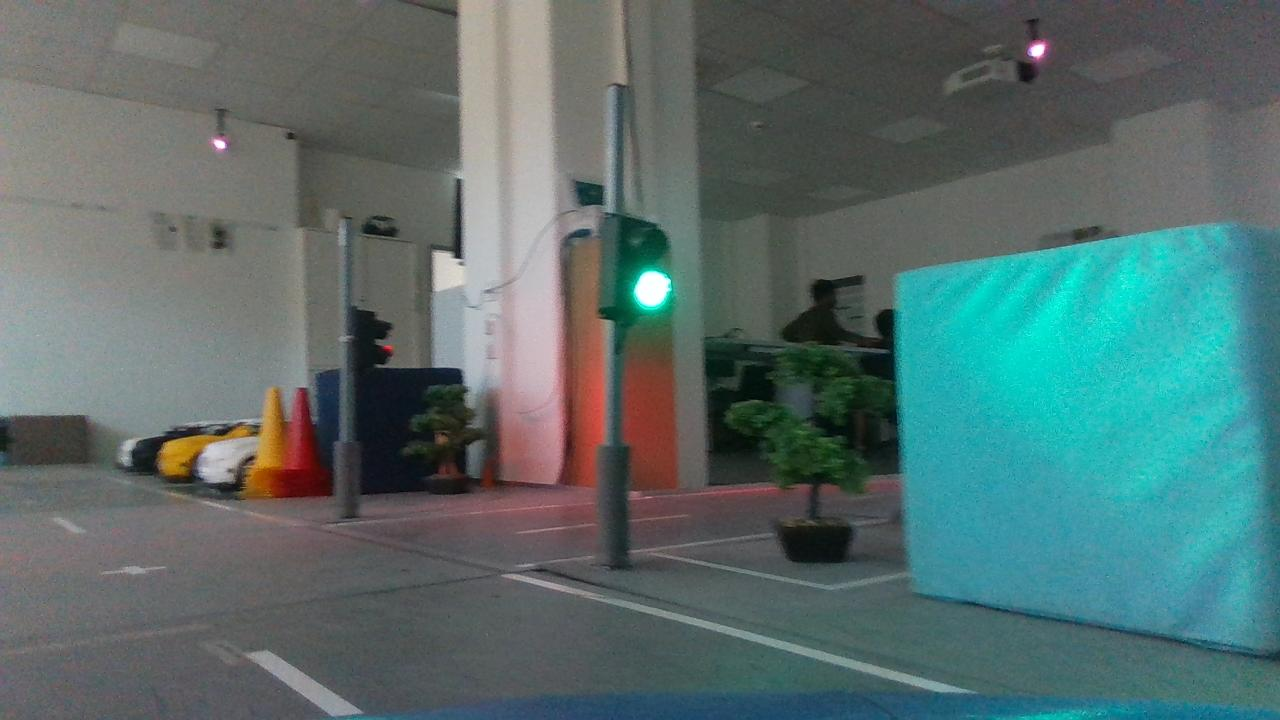traffic_light_green: (577, 196, 683, 336)
